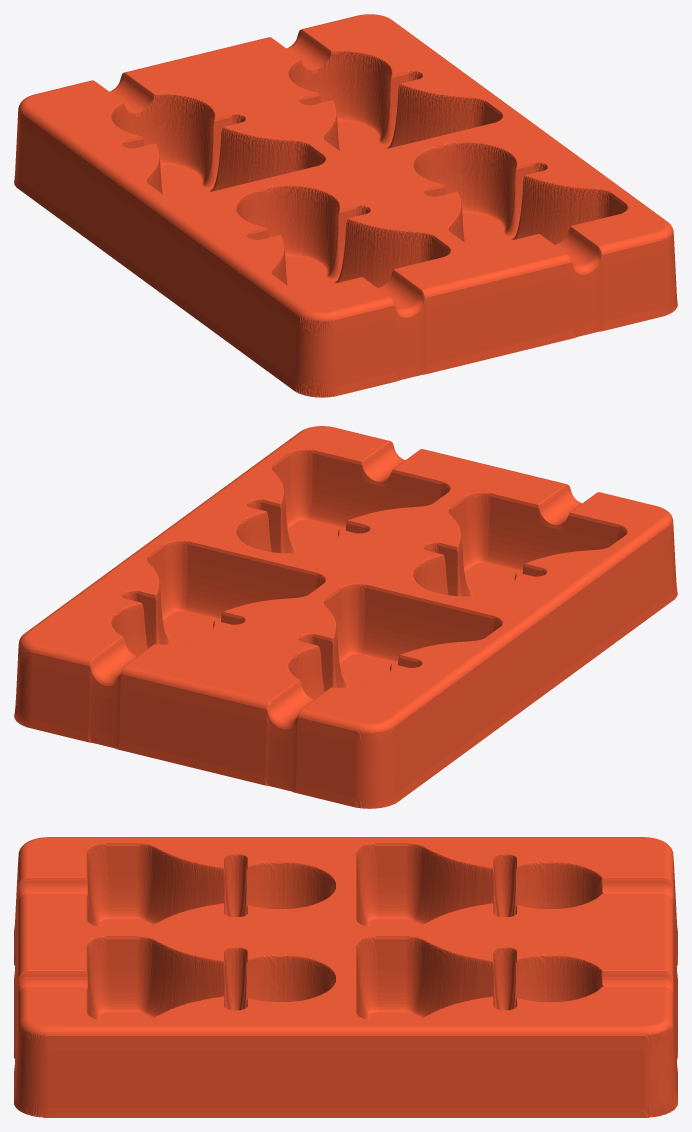
The model's file is mold.glb.
The picture shows the model from 3 angles, top to bottom: view 1: azimuth 30°, elevation 25°; view 2: azimuth 150°, elevation 25°; view 3: azimuth 270°, elevation 25°; orthographic projection. The views are drawn at different scales.
Parts seen in each view (by area): view 1: geometry_0; view 2: geometry_0; view 3: geometry_0.
Part boxes in pixels (x1,y1,x2,y2): geometry_0: (14, 14, 677, 397); geometry_0: (14, 426, 677, 808); geometry_0: (14, 837, 677, 1117).
Size of the model in its own units: 0.1217 by 0.0245 by 0.171.
